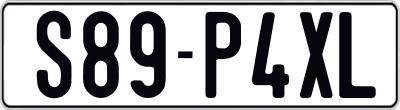4: (249, 11, 286, 102)
8: (80, 8, 116, 100)
9: (128, 10, 169, 97)
L: (339, 9, 382, 100)
P: (202, 9, 241, 100)
S: (34, 9, 73, 102)
X: (298, 11, 337, 101)
